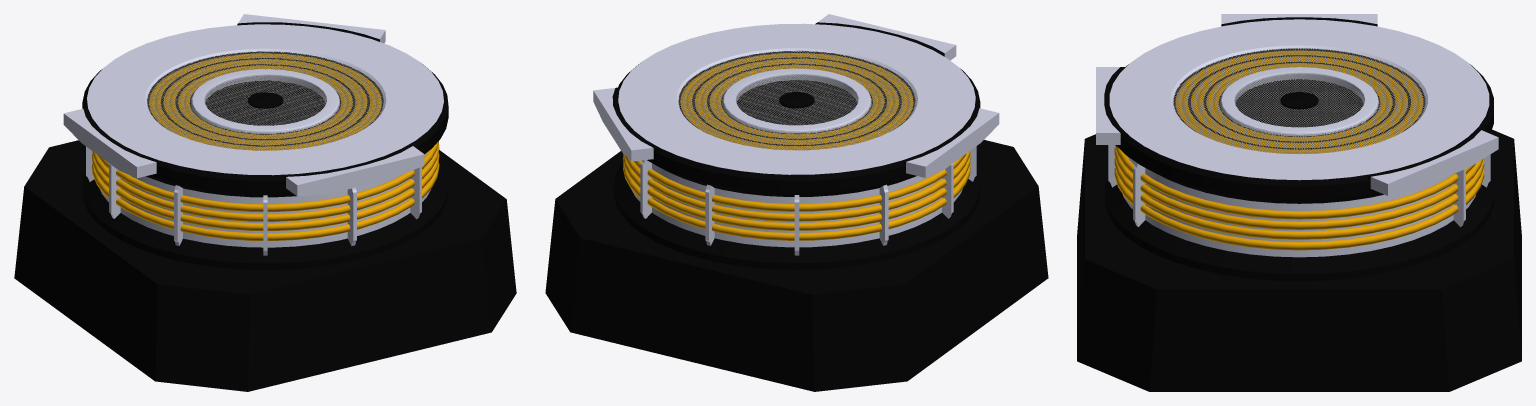
File: CPU.fbx
3 renders of one model, left to right at view 1: azimuth 30°, elevation 25°; view 2: azimuth 150°, elevation 25°; view 3: azimuth 270°, elevation 25°, orthographic. The views are drawn at different scales.
Parts seen in each view (by area): view 1: CPU_Cooler_GEO, Base_GEO, Grating_GEO, Fan_Blades_GEO; view 2: CPU_Cooler_GEO, Base_GEO, Grating_GEO, Fan_Blades_GEO; view 3: CPU_Cooler_GEO, Base_GEO, Grating_GEO, Fan_Blades_GEO.
Boxes of the visible parts, x1,y1,x2,y2 form: CPU_Cooler_GEO: [63, 14, 448, 269]; Base_GEO: [14, 140, 516, 391]; Grating_GEO: [147, 51, 383, 150]; Fan_Blades_GEO: [212, 85, 318, 125]; CPU_Cooler_GEO: [593, 14, 999, 269]; Base_GEO: [545, 140, 1048, 391]; Grating_GEO: [678, 50, 915, 150]; Fan_Blades_GEO: [747, 85, 852, 125]; CPU_Cooler_GEO: [1096, 14, 1498, 281]; Base_GEO: [1077, 129, 1521, 391]; Grating_GEO: [1173, 48, 1425, 153]; Fan_Blades_GEO: [1240, 83, 1358, 127].
Bounding box in the file's own units: 1232 × 606 × 1232.
